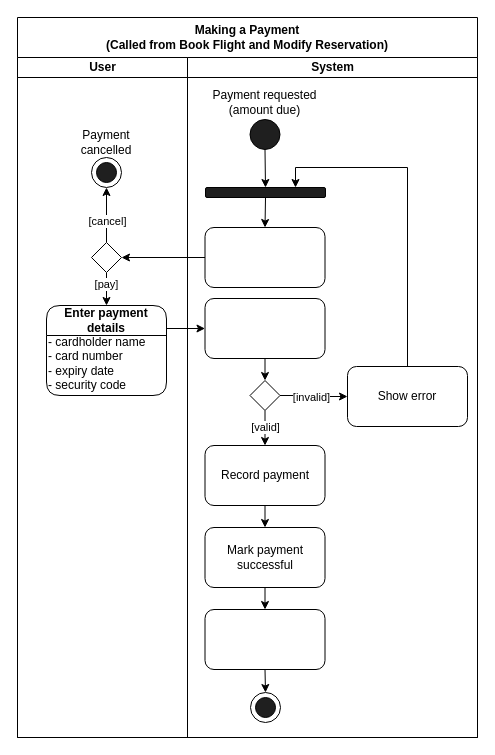
Some shapes in this 495 by 755 pixel diagram are drawn without their labels. The shapes that lost their labels are listed below. From the top down, each one's centre as x and y in pixels, then its label:
At point (264, 257): "Show payment form with amount due".
At point (264, 328): "Validate payment details".
At point (264, 639): "Return result to caller".
